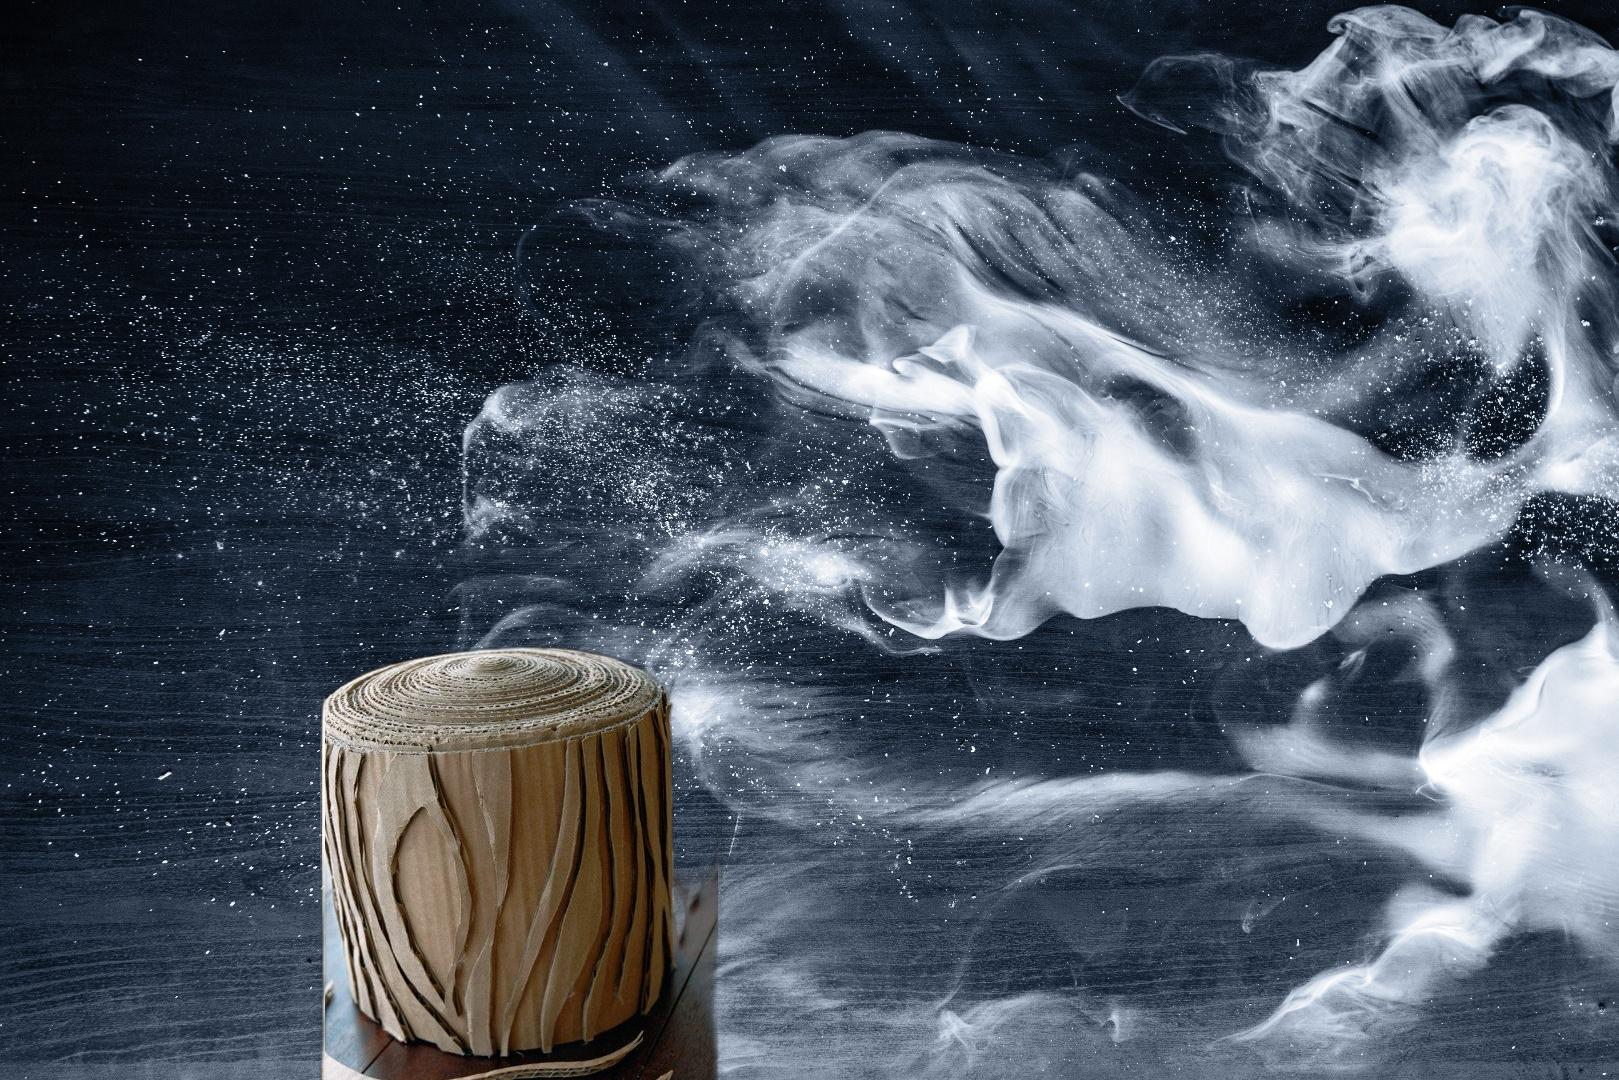trashbox-cardboard: (306, 640, 728, 1080)
